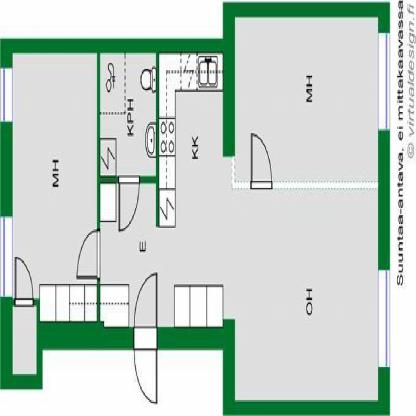door: (134, 270, 158, 409), (74, 225, 104, 294), (249, 129, 276, 197), (117, 176, 141, 244), (14, 253, 35, 309)
window: (377, 31, 390, 133), (378, 268, 391, 369), (1, 215, 15, 298), (1, 67, 13, 124)
zone: (235, 19, 378, 401), (13, 53, 96, 324), (158, 53, 236, 328), (101, 184, 157, 326), (101, 53, 156, 176), (12, 307, 38, 378)
